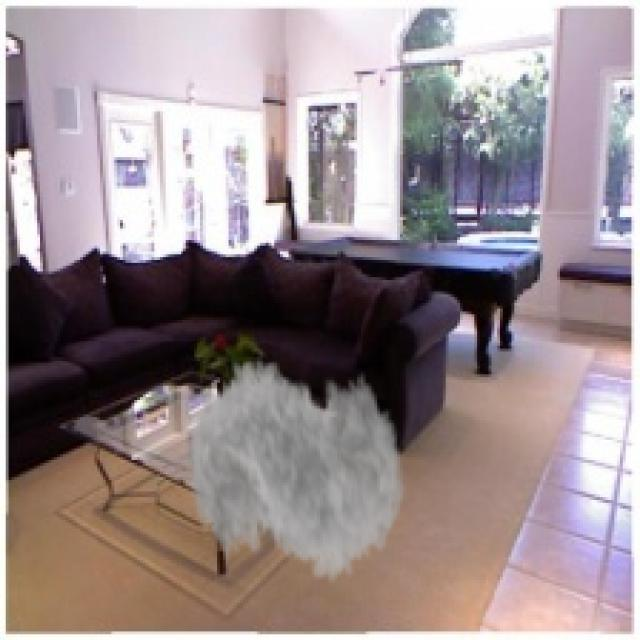smoke: (186, 328, 406, 603)
